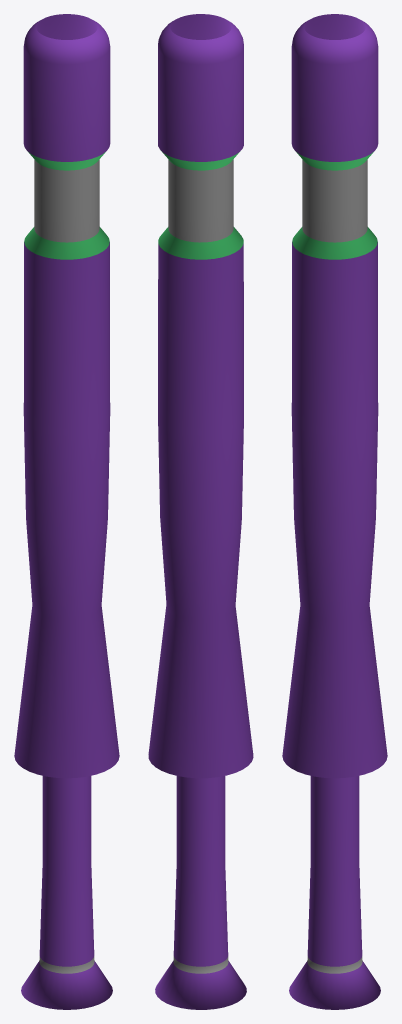
Rendered from BuntGun.fbx.
The picture shows the model from 3 angles, left to right: view 1: azimuth 90°, elevation 25°; view 2: azimuth 210°, elevation 25°; view 3: azimuth 270°, elevation 25°; orthographic projection.
Visible parts, largest first — view 1: Circle; view 2: Circle; view 3: Circle.
Boxes of the visible parts, left/top/right/bottom form: Circle: left=14, top=14, right=119, bottom=1009; Circle: left=148, top=14, right=253, bottom=1009; Circle: left=282, top=14, right=387, bottom=1009.
Size of the model in its own units: 5.48 by 55.36 by 5.48.
